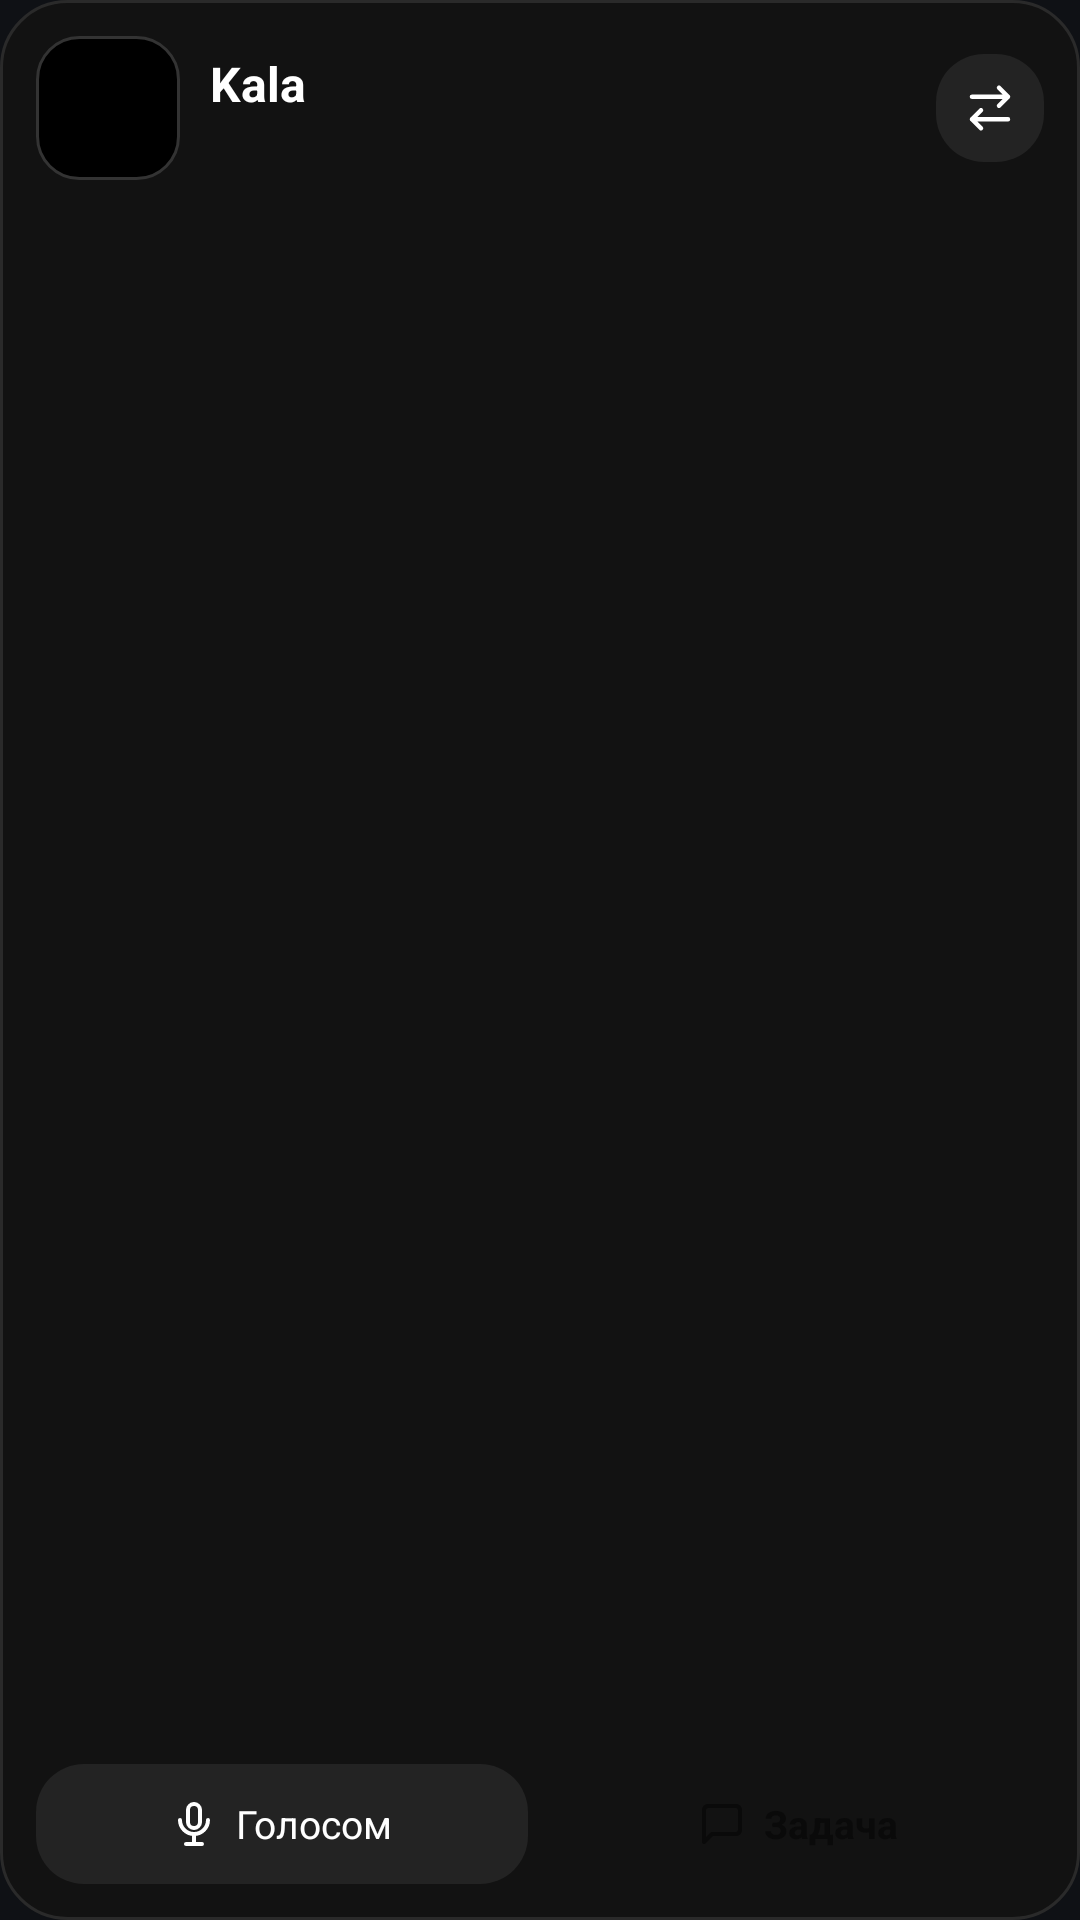

Icon bounding boxes for this 1080 x 1920 phone screenshot, format (x1, y1, x2, y2):
mic: (178, 1802, 210, 1846)
swap: (936, 54, 1044, 162)
